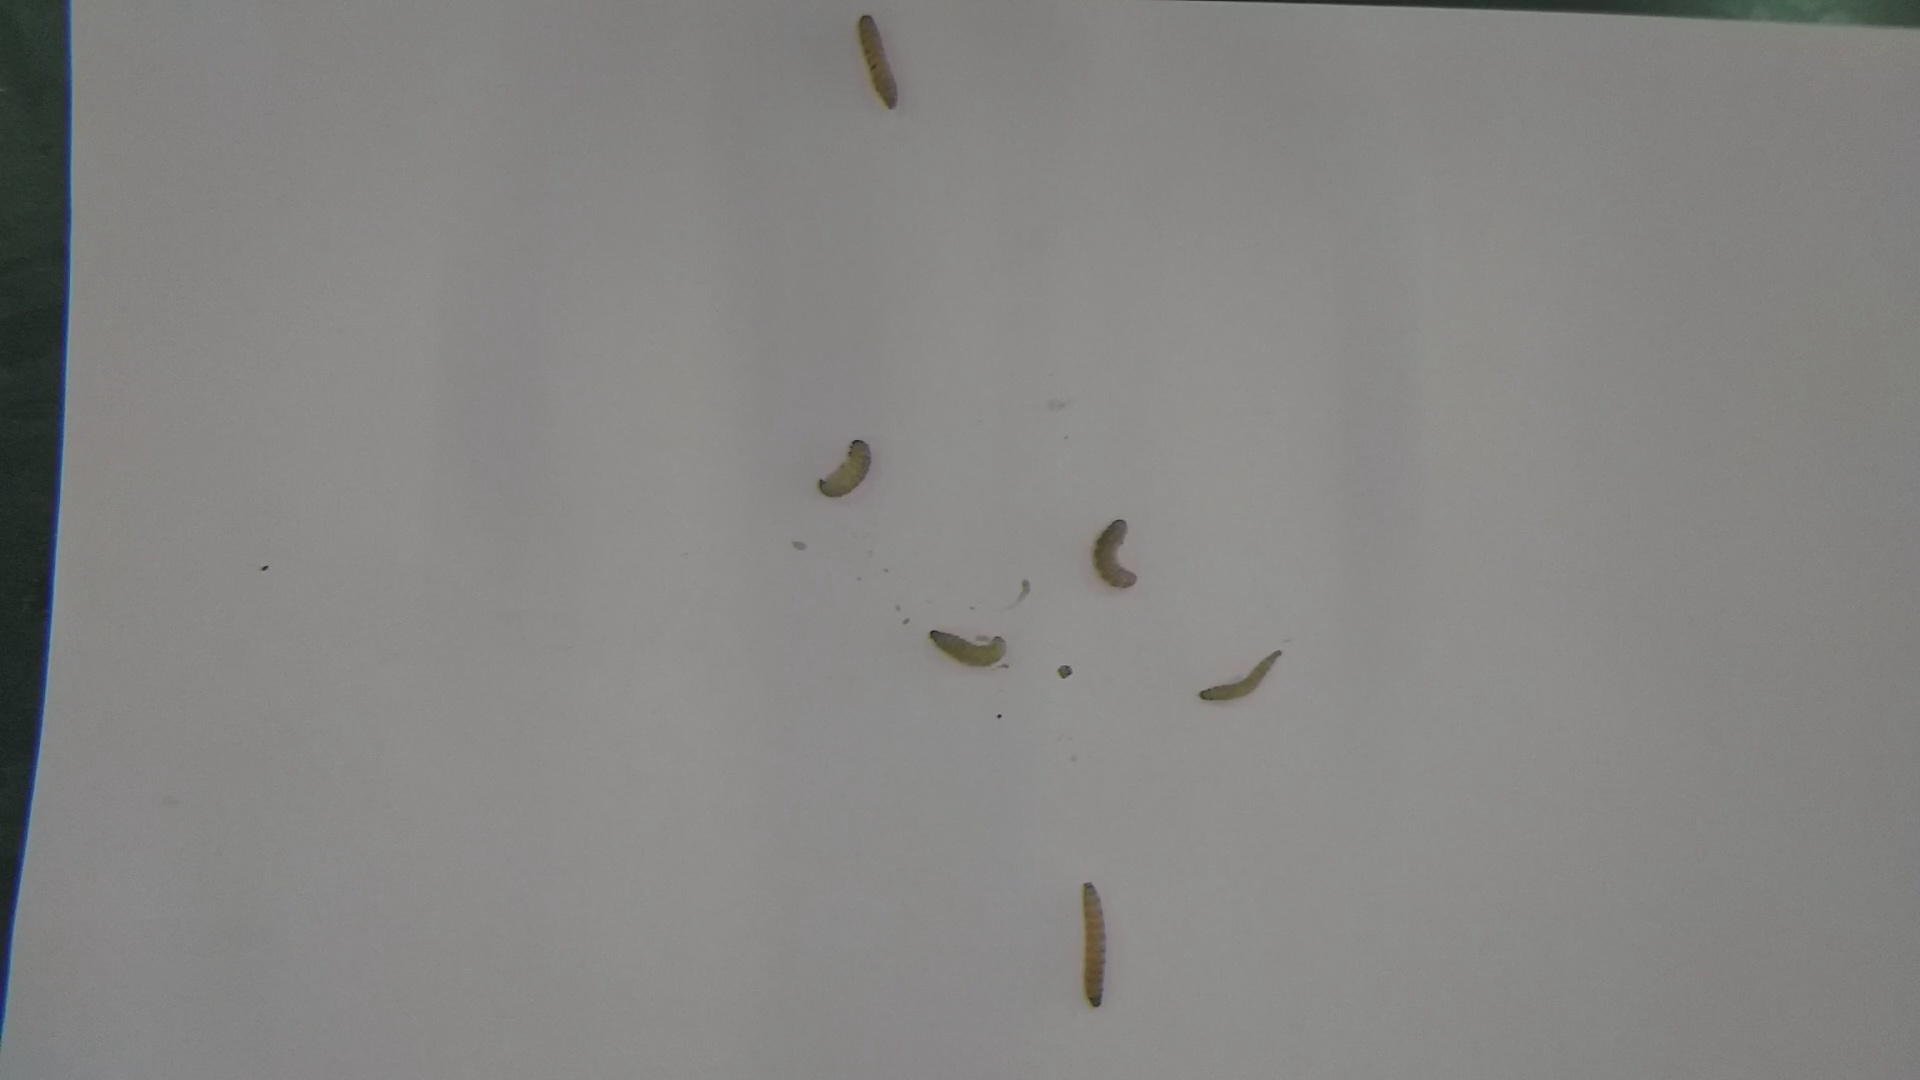efsb: (1069, 870, 1117, 1021), (1193, 644, 1287, 712), (855, 11, 902, 117), (811, 433, 877, 502), (920, 622, 1011, 673), (1088, 516, 1142, 599)
